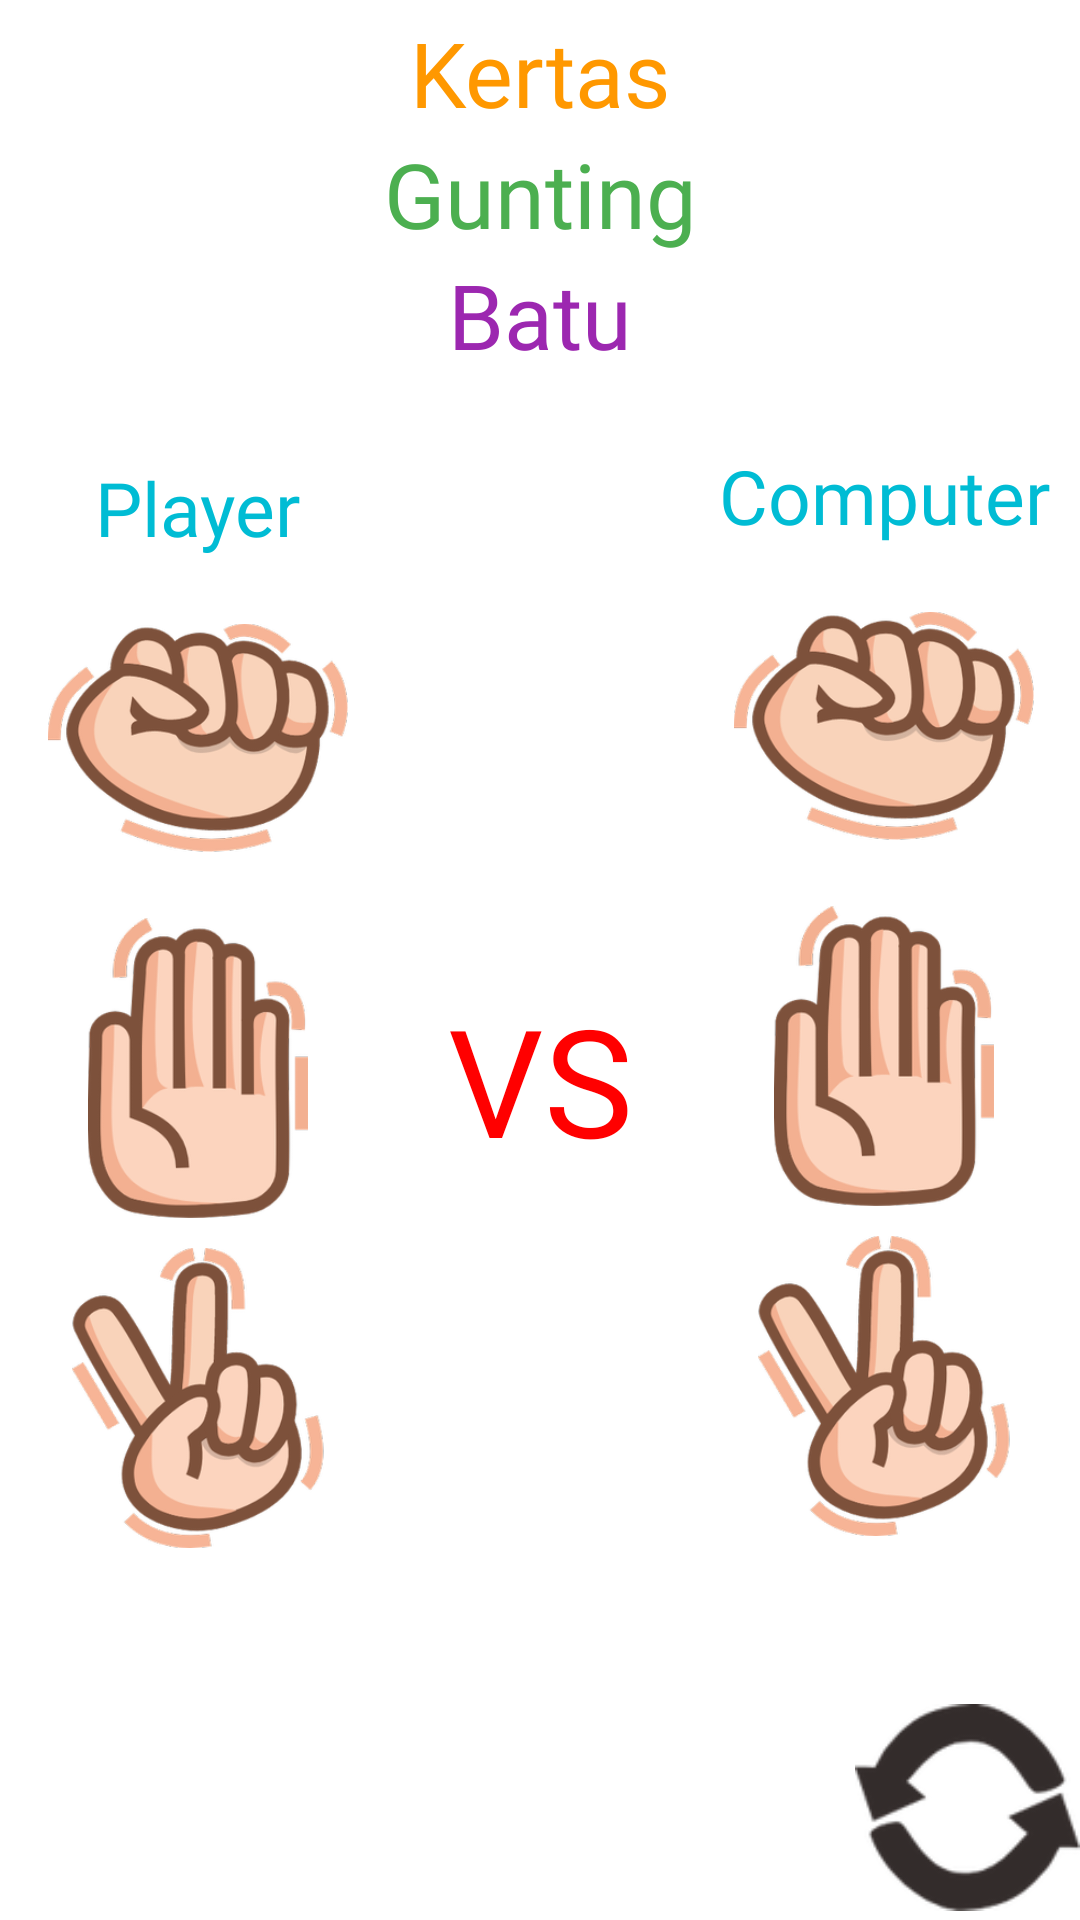

Icons on this 1080 × 1920 Android screen, each with the point to tap as [x,y]:
batu: [884,726], [198,738]
gunting: [884,1386], [198,1398]
kertas: [884,1056], [198,1068]
refresh: [967,1807]
